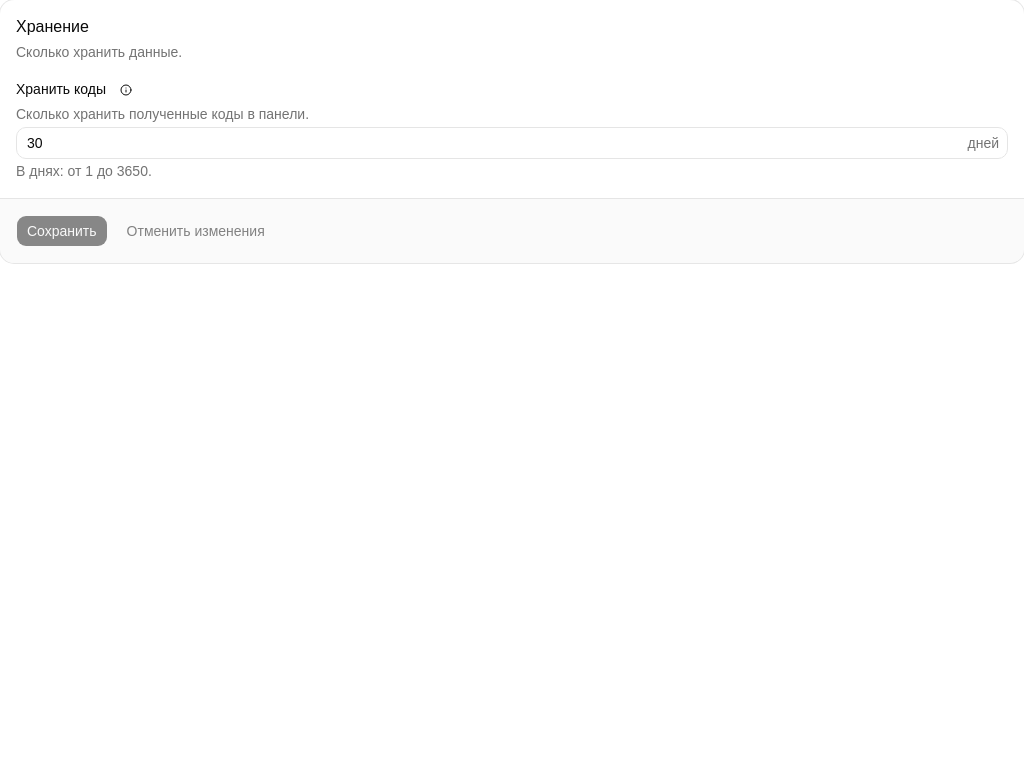
Test: SettingsGroupCard › explains a setting in the ⓘ popover and names its unit
Expected: the text "Сколько хранить полученные коды в панели." is shown, left=16, top=106, right=309, bottom=122
Expected: the text "В днях: от 1 до 3650." is shown, left=16, top=163, right=152, bottom=179
Replace the text in the number field labelled "Хранить коды" with "1" at (492, 143), box left=17, top=127, right=968, bottom=159
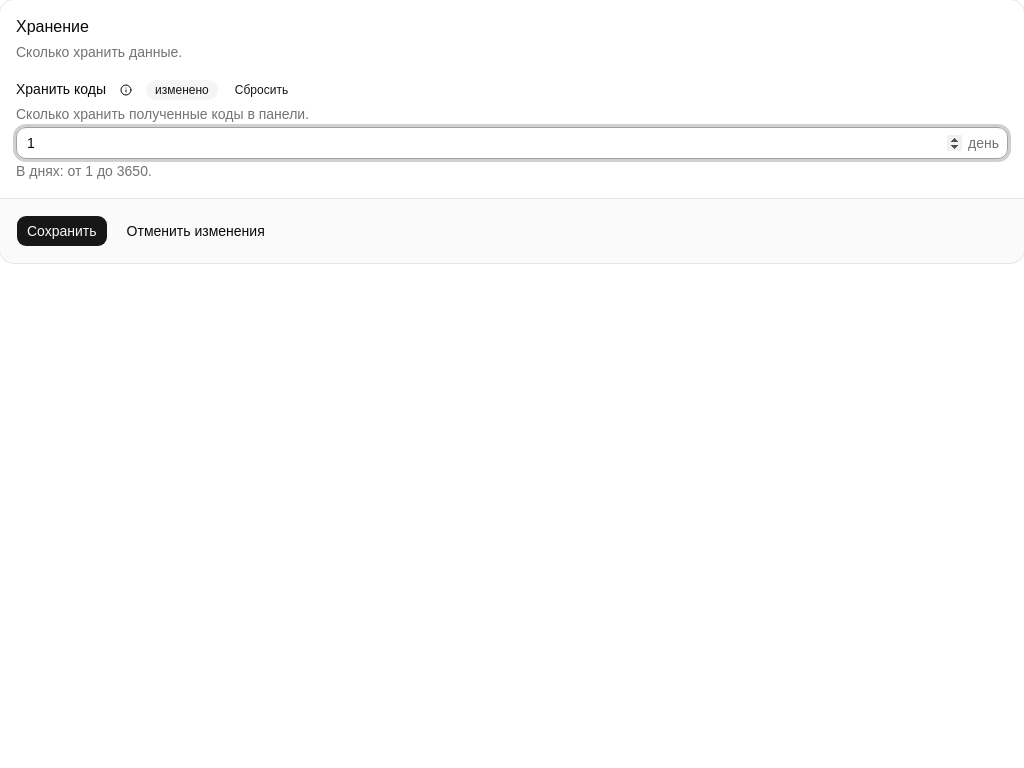
Now the text "день" is shown, box left=968, top=133, right=999, bottom=153
Click the button named "Подробнее: Хранить коды".
click(126, 90)  # box left=114, top=78, right=138, bottom=102
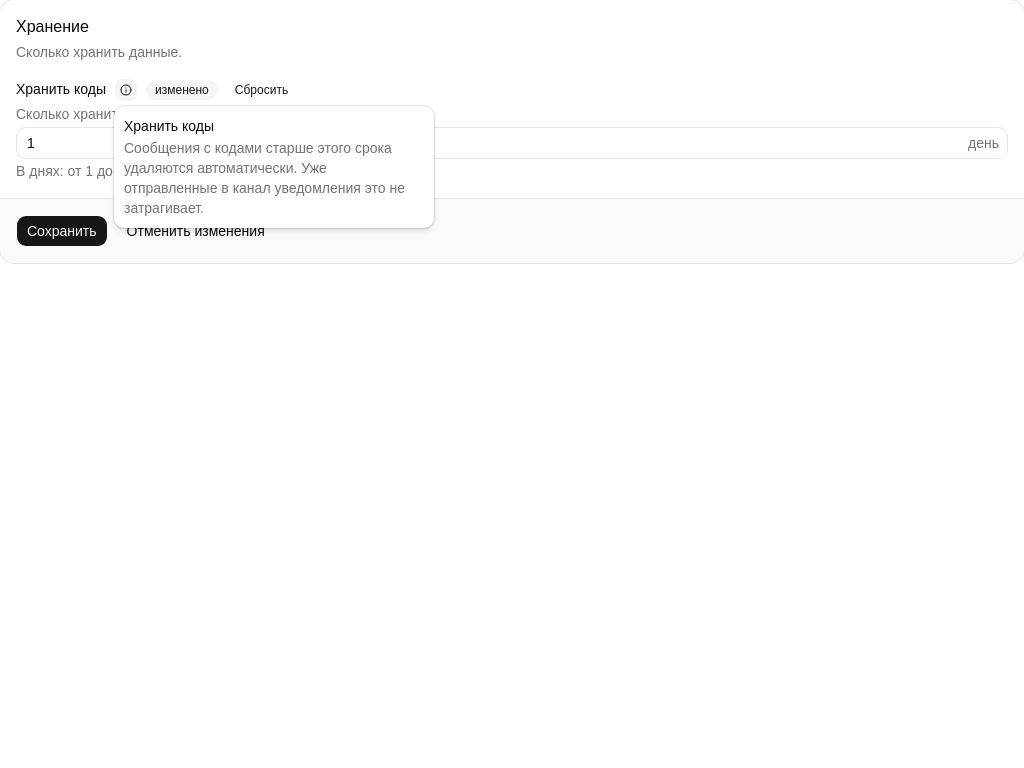
Now the text "старше этого срока удаляются автоматически" is shown, box left=124, top=140, right=405, bottom=216
